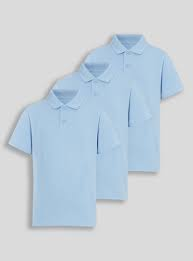C_polo shirt: (15, 88, 121, 229)
